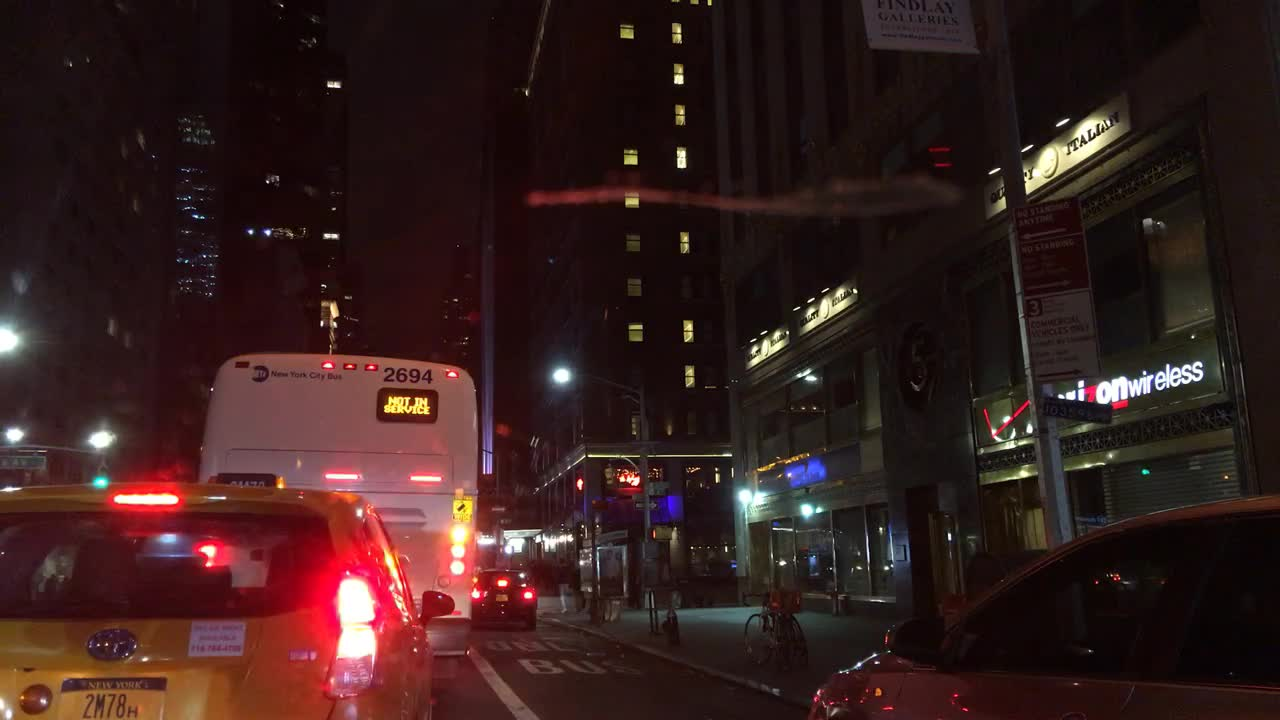bike: (737, 590, 805, 673)
bus: (198, 349, 480, 699)
car: (799, 491, 1279, 716), (0, 482, 455, 716), (471, 565, 541, 635)
motor: (666, 575, 709, 610)
person: (554, 552, 573, 615), (572, 560, 591, 613)
traffic light: (574, 476, 587, 492)
traffic sign: (1005, 197, 1094, 298), (1019, 292, 1103, 385), (1040, 391, 1115, 426), (1, 452, 43, 470), (91, 463, 110, 489), (650, 524, 673, 544), (634, 498, 659, 512)
